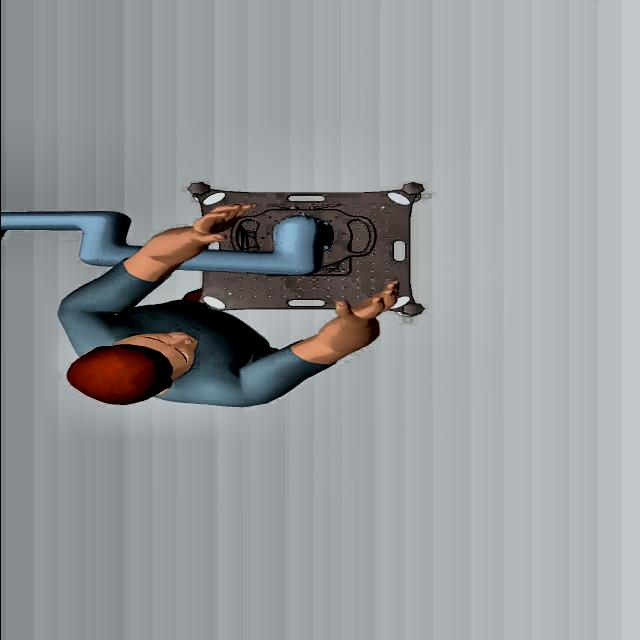human: (54, 202, 400, 408)
robot: (0, 202, 339, 280)
